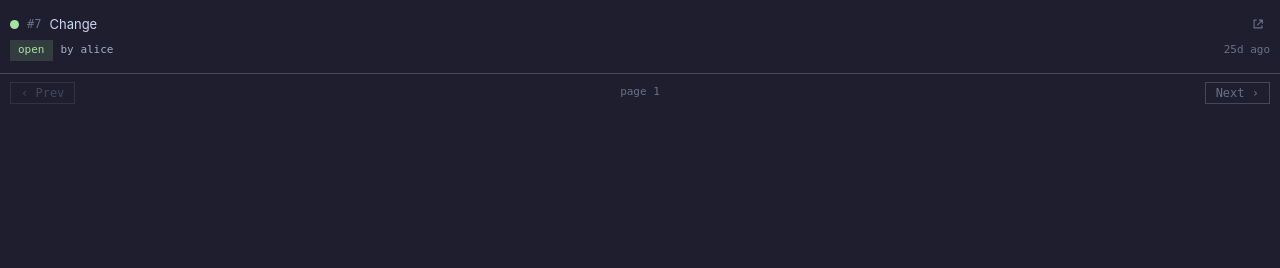
Scenario: keeps an expanded PR row and its CI status mounted through list and checks refresh
The image size is (1280, 268).
Click the button "#7 Change" at {"x": 73, "y": 24}, box [10,16,1240,32]
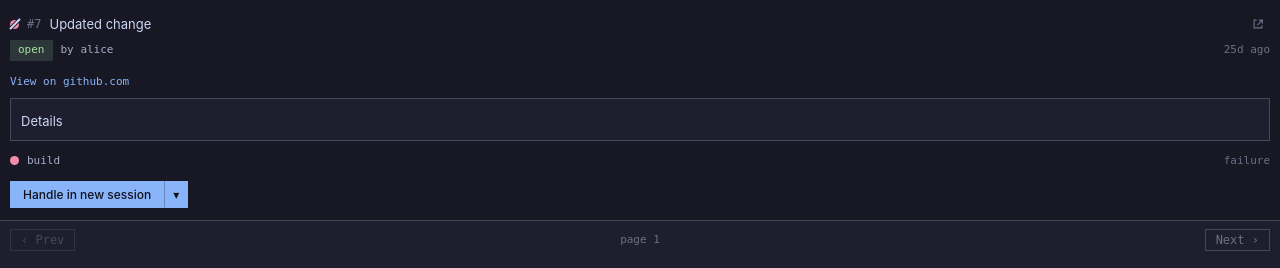
Expected: the button "Next ›" is enabled, [1205,229,1270,251]
Result: the text "Updated change" is shown at [50,16,151,32]
